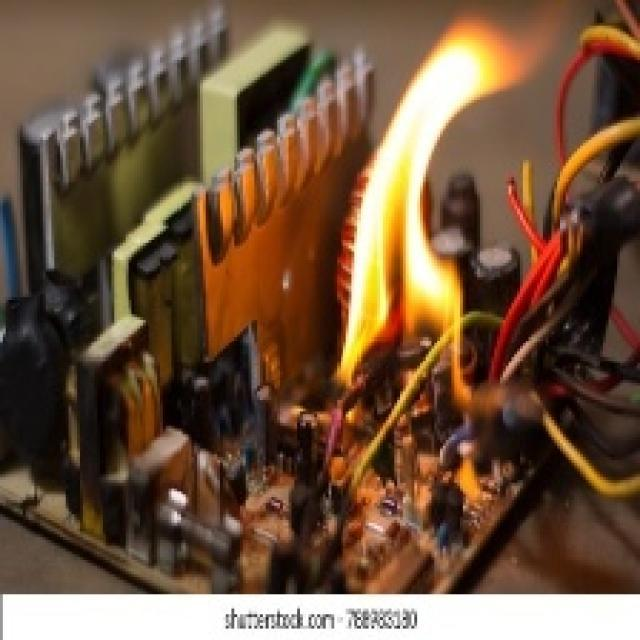Fire: (331, 24, 518, 402)
